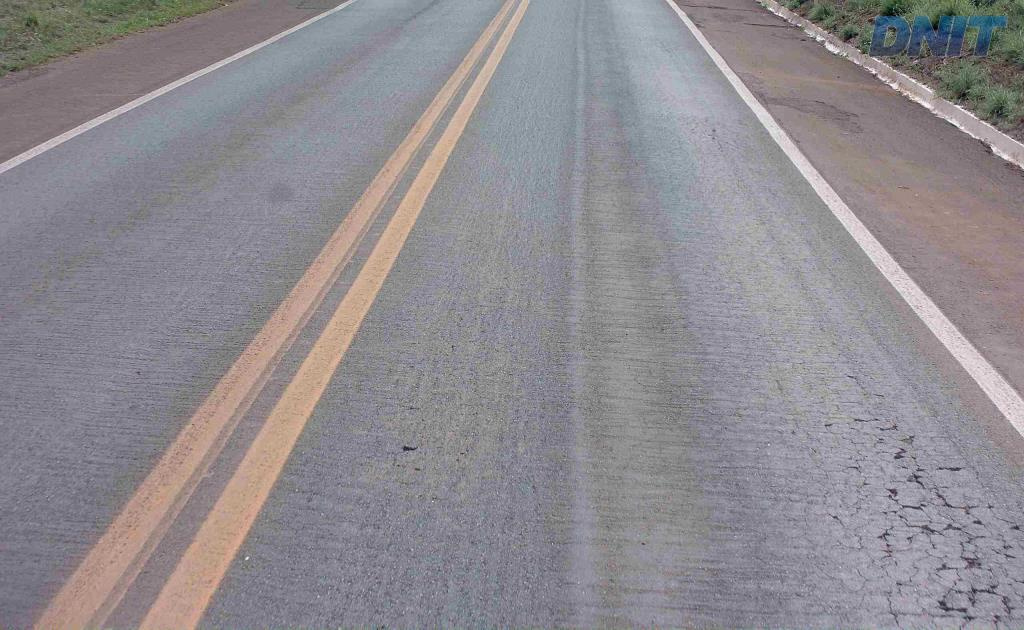crack: (934, 580, 1014, 618)
